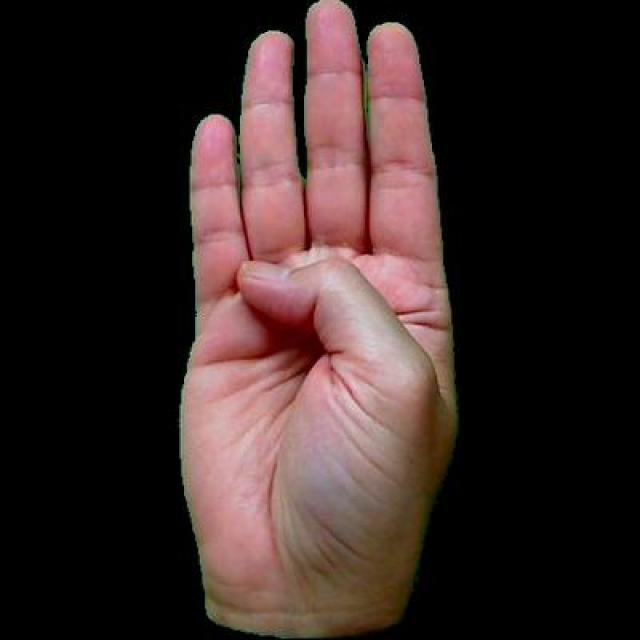b: (165, 0, 459, 637)
